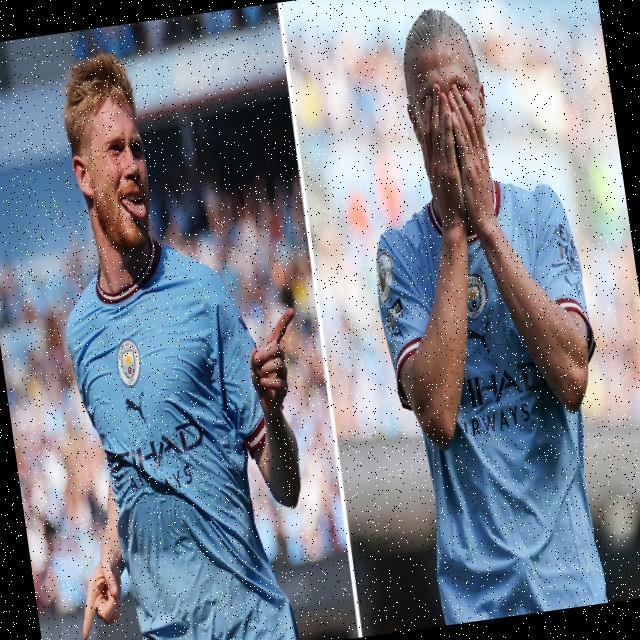Etihad Airways: (105, 417, 212, 503), (450, 362, 552, 440)
Puma: (463, 315, 496, 356), (123, 388, 149, 425)
